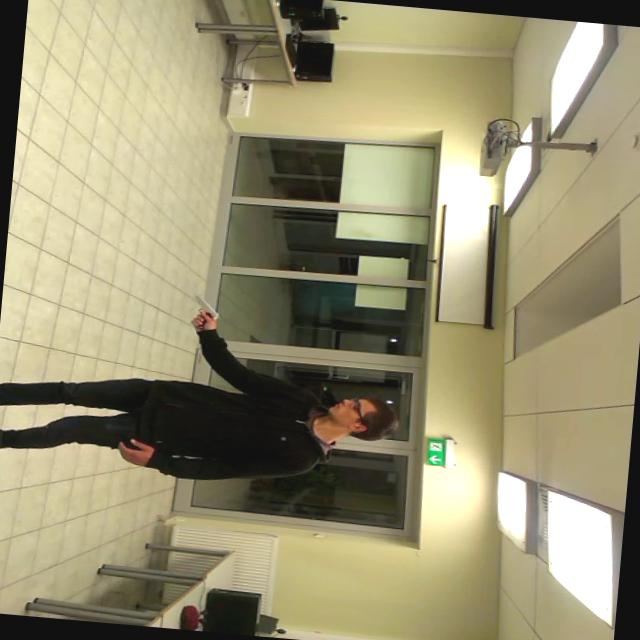handgun: (177, 278, 236, 332)
